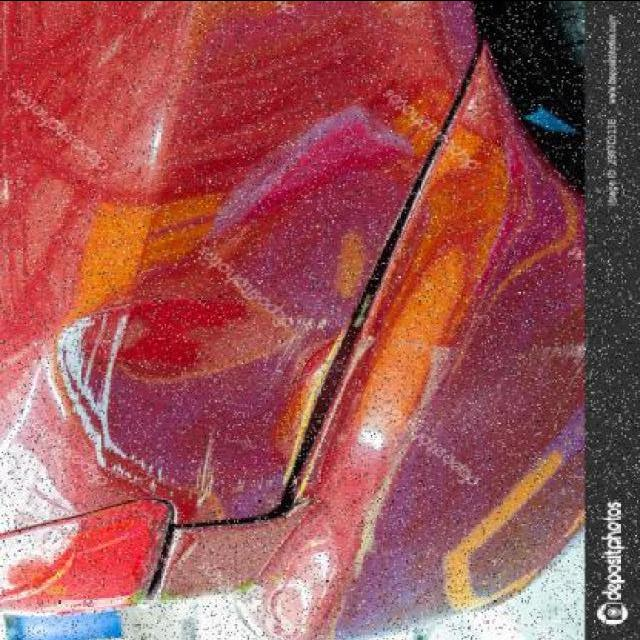quaterpanel-dent: (3, 4, 441, 555)
